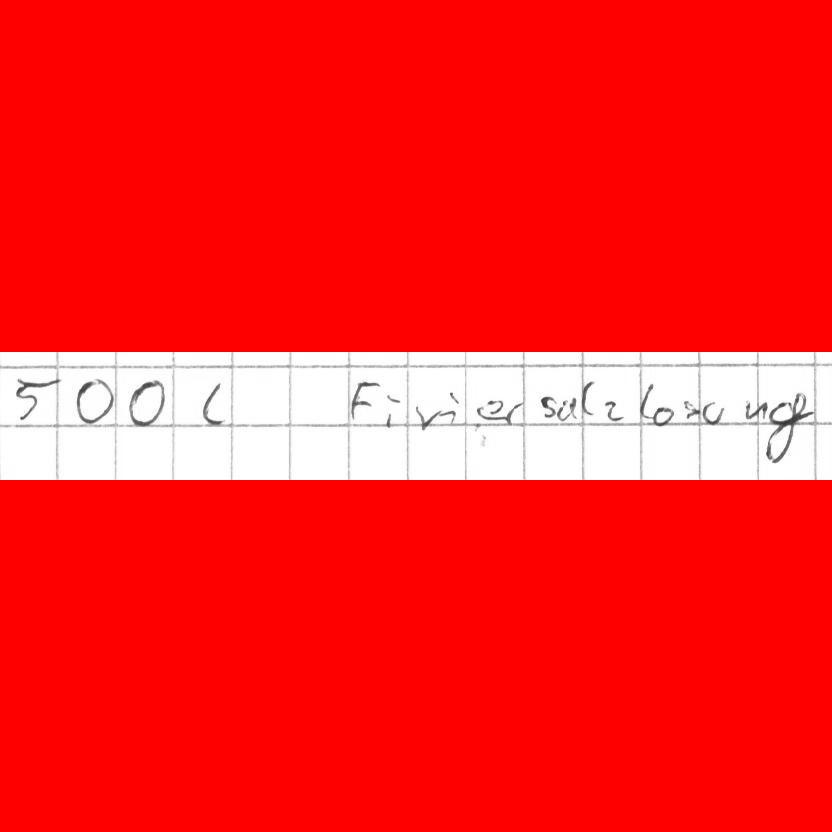Char: (763, 387, 812, 463), (10, 374, 63, 426), (74, 376, 116, 428), (124, 378, 168, 427), (344, 378, 380, 425), (195, 377, 221, 426), (411, 399, 443, 435), (576, 375, 598, 418), (634, 380, 655, 422), (382, 391, 404, 430), (474, 396, 504, 423), (440, 387, 460, 426), (698, 397, 723, 427), (500, 396, 524, 427), (741, 397, 768, 424), (556, 395, 580, 425), (650, 403, 675, 429), (603, 397, 626, 425), (680, 397, 701, 424), (538, 392, 555, 420)
